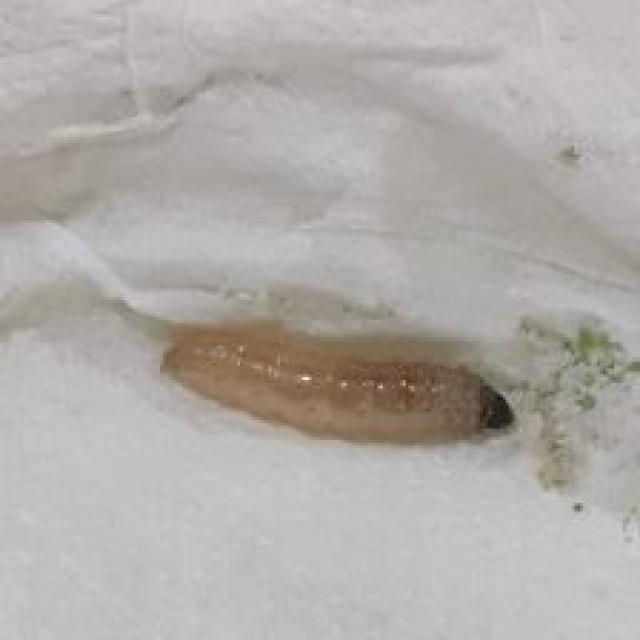white mucus: (155, 321, 522, 475)
